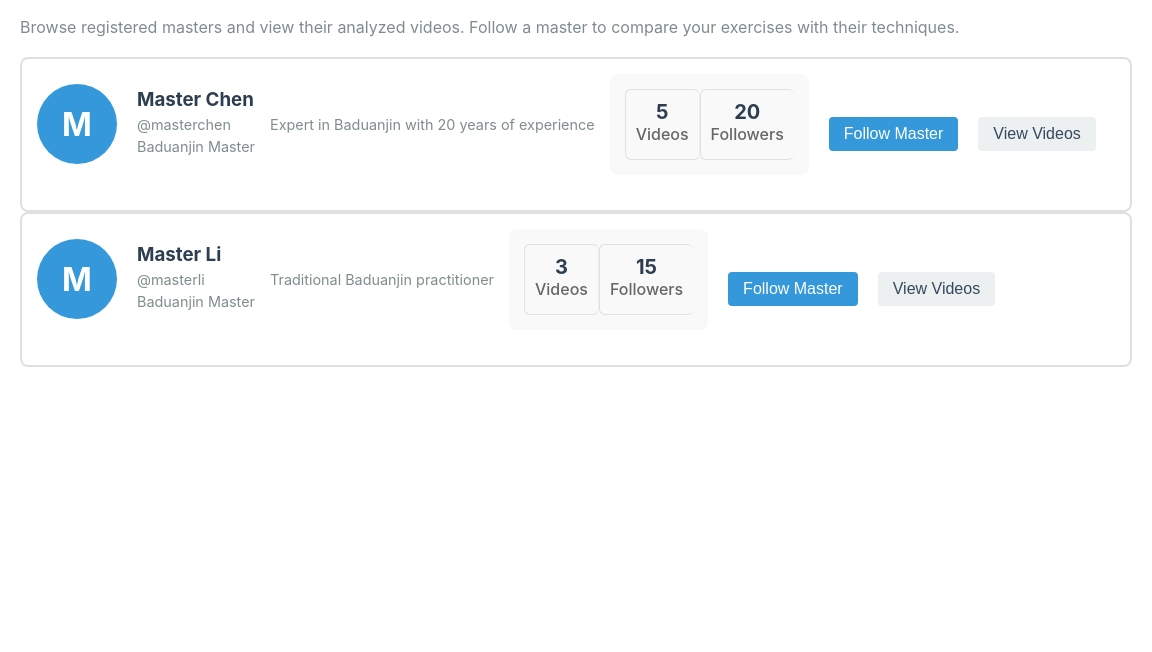
Masters Component › Master Videos Functionality › should display master videos when available
The image size is (1152, 652).
Click the button "View Videos" in the row of "masterchen". click: [1037, 134]
box: 978,117 -> 1096,151
(page scrolled)
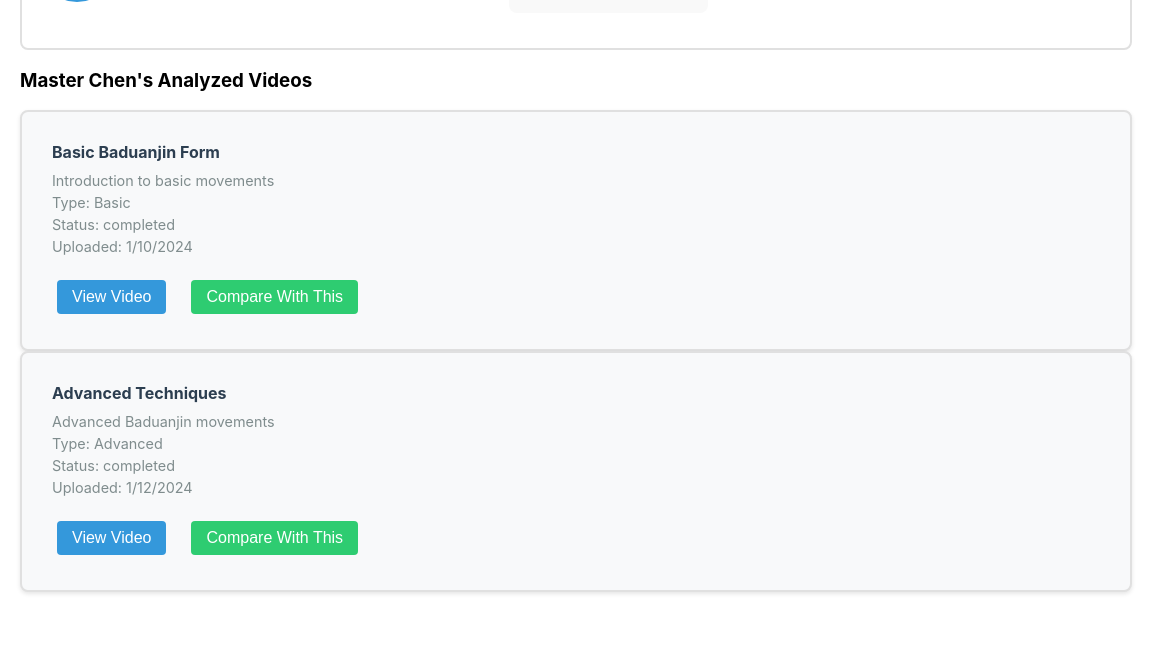
Now the heading "Master Chen's Analyzed Videos" is shown, box 20,69 -> 312,92
Now the heading "Basic Baduanjin Form" is shown, box 52,142 -> 220,162
Now the heading "Advanced Techniques" is shown, box 52,383 -> 226,403
